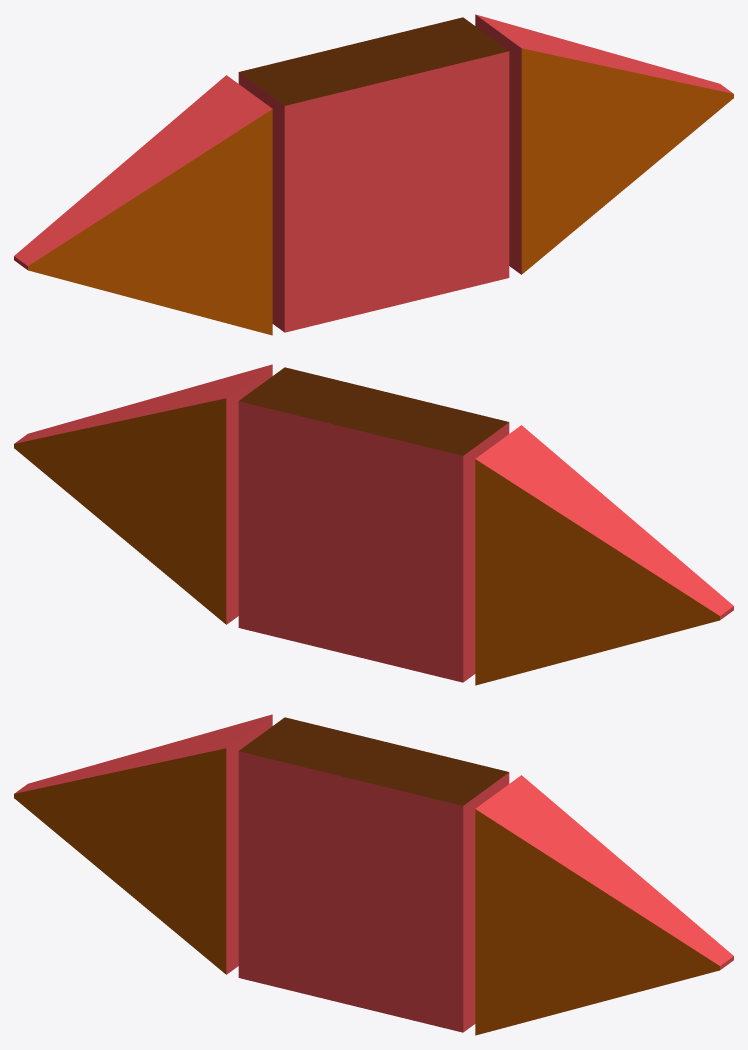
The picture shows the model from 3 angles, top to bottom: view 1: azimuth 30°, elevation 25°; view 2: azimuth 150°, elevation 25°; view 3: azimuth 330°, elevation 25°; orthographic projection.
Parts seen in each view (by area): view 1: ss3d_53_cybertog; view 2: ss3d_53_cybertog; view 3: ss3d_53_cybertog.
Boxes of the visible parts, x1,y1,x2,y2 form: ss3d_53_cybertog: (14, 14, 733, 335); ss3d_53_cybertog: (14, 364, 733, 685); ss3d_53_cybertog: (14, 714, 733, 1035).
Bounding box in the file's own units: 1.38 × 0.4219 × 0.1562.
1 material, 1 textured.
